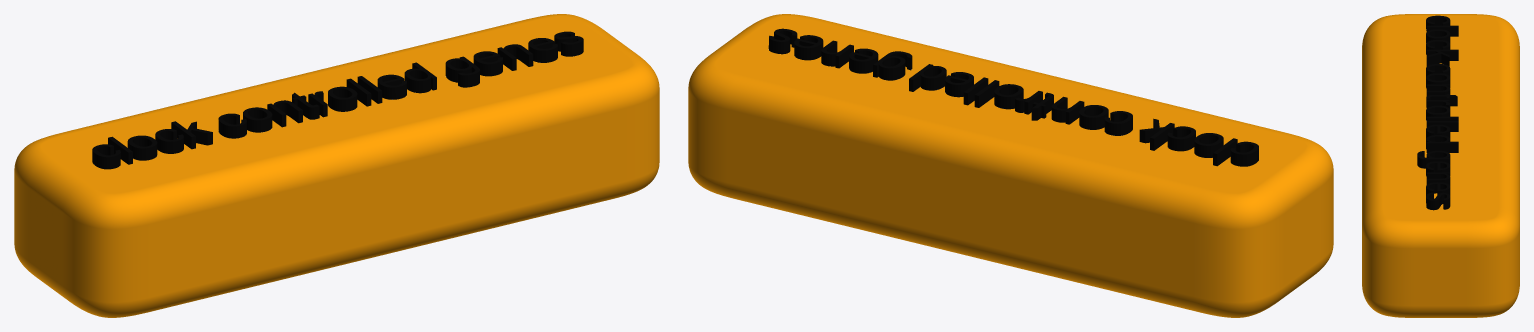
File: Clock-controlled genes.glb
3 renders of one model, left to right at view 1: azimuth 30°, elevation 25°; view 2: azimuth 150°, elevation 25°; view 3: azimuth 270°, elevation 25°, orthographic. The views are drawn at different scales.
Bounding box in the file's own units: 0.05 × 0.011 × 0.015.
